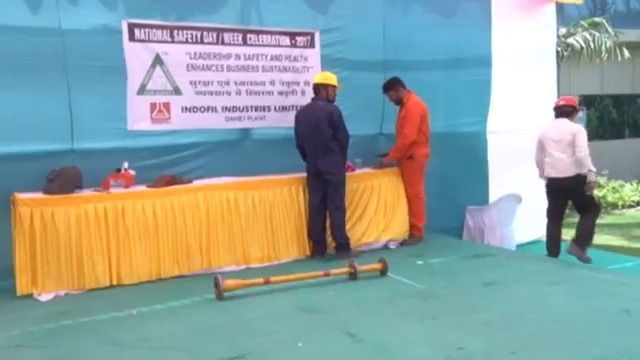helmet: (311, 69, 340, 89), (552, 94, 583, 111)
helmet_off: (380, 75, 411, 107)
helmet_on: (308, 70, 340, 106), (549, 93, 582, 122)
person: (291, 69, 361, 258), (534, 94, 602, 266), (377, 75, 432, 246)
